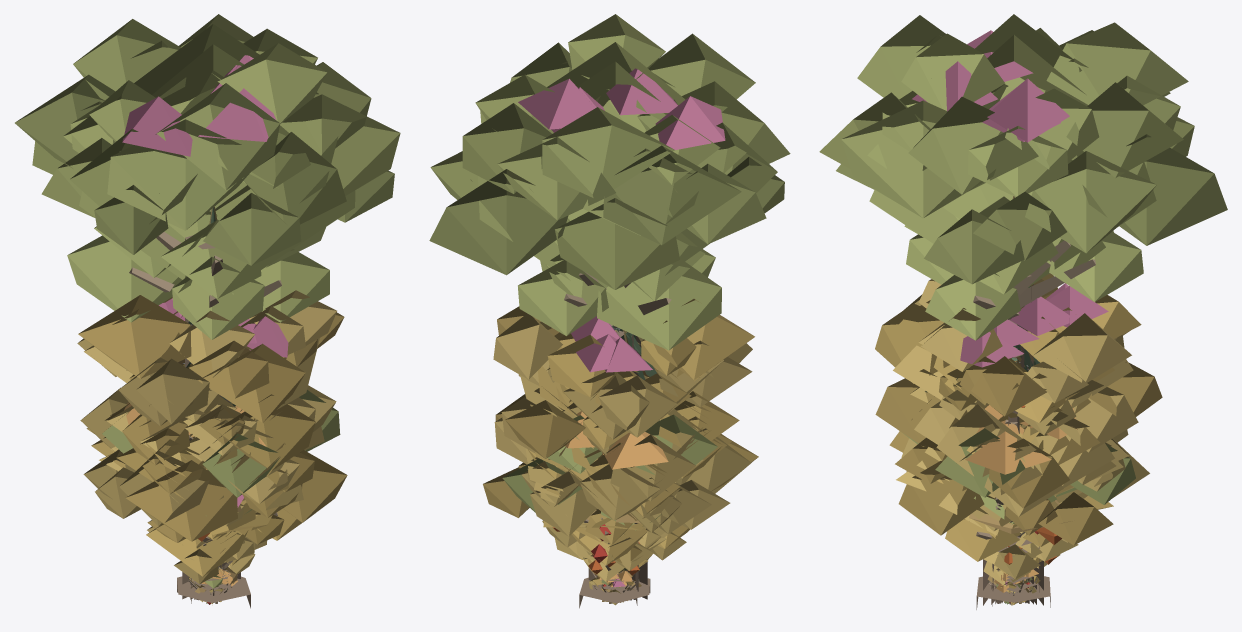
The model's file is autumn.glb.
The picture shows the model from 3 angles, left to right: view 1: azimuth 30°, elevation 25°; view 2: azimuth 150°, elevation 25°; view 3: azimuth 270°, elevation 25°; orthographic projection. The views are drawn at different scales.
Parts seen in each view (by area): view 1: tree.trop.kapok__autumn, tree.trop.dipterocarp__autumn, tree.sub.camphor__autumn, tree.temp.willow__autumn, tree.temp.oak__autumn, tree.sub.paulownia__autumn, tree.trop.flame_tree__autumn, tree.trop.mango__autumn, tree.temp.plane_maple__autumn, tree.sub.citrus__autumn, tree.sub.tea_oil__autumn, tree.trop.baobab__autumn (+1 smaller); view 2: tree.trop.kapok__autumn, tree.trop.dipterocarp__autumn, tree.sub.camphor__autumn, tree.trop.flame_tree__autumn, tree.sub.paulownia__autumn, tree.temp.willow__autumn, tree.temp.oak__autumn, tree.trop.mango__autumn, tree.sub.citrus__autumn, tree.sub.tea_oil__autumn, tree.temp.plane_maple__autumn, tree.trop.baobab__autumn (+2 smaller); view 3: tree.trop.kapok__autumn, tree.trop.dipterocarp__autumn, tree.sub.camphor__autumn, tree.temp.oak__autumn, tree.trop.flame_tree__autumn, tree.temp.willow__autumn, tree.sub.paulownia__autumn, tree.trop.mango__autumn, tree.sub.citrus__autumn, tree.temp.plane_maple__autumn, tree.temp.ginkgo__autumn, tree.temp.birch__autumn (+3 smaller).
Part boxes in pixels (x1,y1,x2,y2): tree.trop.kapok__autumn: [15, 14, 371, 599]; tree.trop.dipterocarp__autumn: [32, 40, 400, 603]; tree.sub.camphor__autumn: [77, 290, 344, 599]; tree.temp.willow__autumn: [91, 437, 347, 599]; tree.temp.oak__autumn: [80, 385, 336, 599]; tree.sub.paulownia__autumn: [112, 298, 317, 576]; tree.trop.flame_tree__autumn: [86, 390, 340, 599]; tree.trop.mango__autumn: [83, 403, 324, 599]; tree.temp.plane_maple__autumn: [106, 419, 302, 591]; tree.sub.citrus__autumn: [147, 526, 255, 584]; tree.sub.tea_oil__autumn: [147, 495, 284, 553]; tree.trop.baobab__autumn: [177, 505, 250, 608]; tree.trop.kapok__autumn: [462, 14, 777, 599]; tree.trop.dipterocarp__autumn: [429, 61, 790, 605]; tree.sub.camphor__autumn: [493, 299, 754, 599]; tree.trop.flame_tree__autumn: [494, 406, 751, 600]; tree.sub.paulownia__autumn: [518, 316, 752, 579]; tree.temp.willow__autumn: [483, 438, 758, 571]; tree.temp.oak__autumn: [495, 368, 739, 599]; tree.trop.mango__autumn: [521, 409, 732, 600]; tree.sub.citrus__autumn: [555, 527, 686, 581]; tree.sub.tea_oil__autumn: [542, 509, 667, 563]; tree.temp.plane_maple__autumn: [518, 416, 722, 590]; tree.trop.baobab__autumn: [579, 510, 650, 608]; tree.trop.kapok__autumn: [819, 14, 1188, 605]; tree.trop.dipterocarp__autumn: [836, 35, 1227, 606]; tree.sub.camphor__autumn: [875, 273, 1162, 604]; tree.temp.oak__autumn: [875, 369, 1138, 604]; tree.trop.flame_tree__autumn: [903, 390, 1135, 603]; tree.temp.willow__autumn: [889, 426, 1149, 603]; tree.sub.paulownia__autumn: [891, 275, 1124, 579]; tree.trop.mango__autumn: [895, 396, 1125, 603]; tree.sub.citrus__autumn: [983, 532, 1078, 586]; tree.temp.plane_maple__autumn: [906, 424, 1116, 602]; tree.temp.ginkgo__autumn: [939, 358, 1090, 602]; tree.temp.birch__autumn: [927, 316, 1075, 410].
Size of the model in its own units: 17.86 by 30.36 by 19.09.
